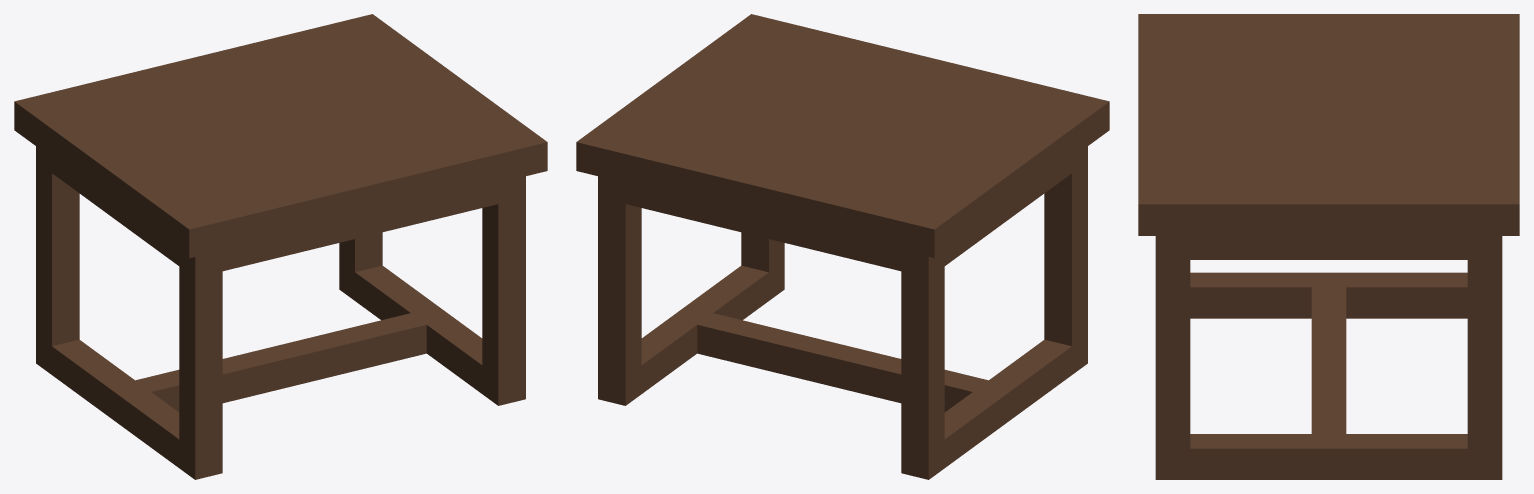
File: table_small_01.glb
The picture shows the model from 3 angles, left to right: view 1: azimuth 30°, elevation 25°; view 2: azimuth 150°, elevation 25°; view 3: azimuth 270°, elevation 25°; orthographic projection. The views are drawn at different scales.
Parts seen in each view (by area): view 1: Untitled; view 2: Untitled; view 3: Untitled.
Boxes of the visible parts, x1,y1,x2,y2 form: Untitled: [14, 14, 547, 479]; Untitled: [576, 14, 1109, 479]; Untitled: [1138, 14, 1519, 479].
Size of the model in its own units: 0.78 by 0.54 by 0.66.
Materials: 1 (1 with a texture image).
